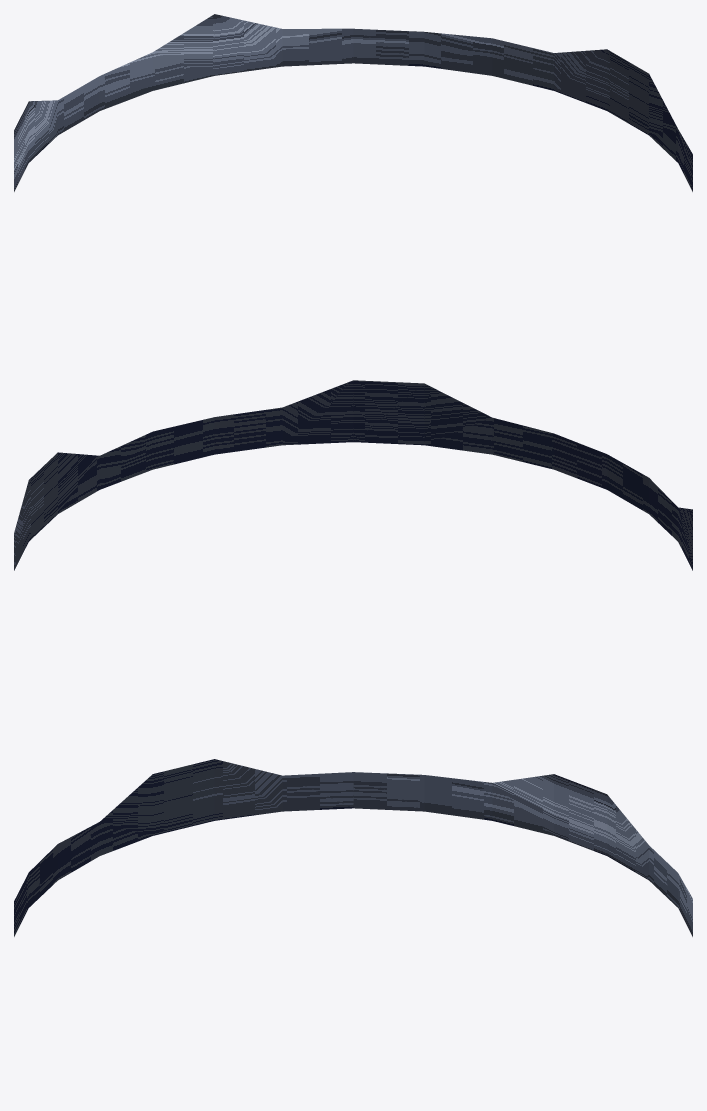
The model's file is skyx.horizon.glb.
3 views of the same model, one above another, from view 1: azimuth 30°, elevation 25°; view 2: azimuth 150°, elevation 25°; view 3: azimuth 270°, elevation 25° (orthographic).
Parts seen in each view (by area): view 1: kit_shell_horizon; view 2: kit_shell_horizon; view 3: kit_shell_horizon.
Part boxes in pixels (x1=…): kit_shell_horizon: x1=14, y1=14, x2=692, y2=191; kit_shell_horizon: x1=14, y1=380, x2=692, y2=570; kit_shell_horizon: x1=14, y1=759, x2=692, y2=936.
Bounding box in the file's own units: 180 × 18 × 179.
1 material, 1 textured.
